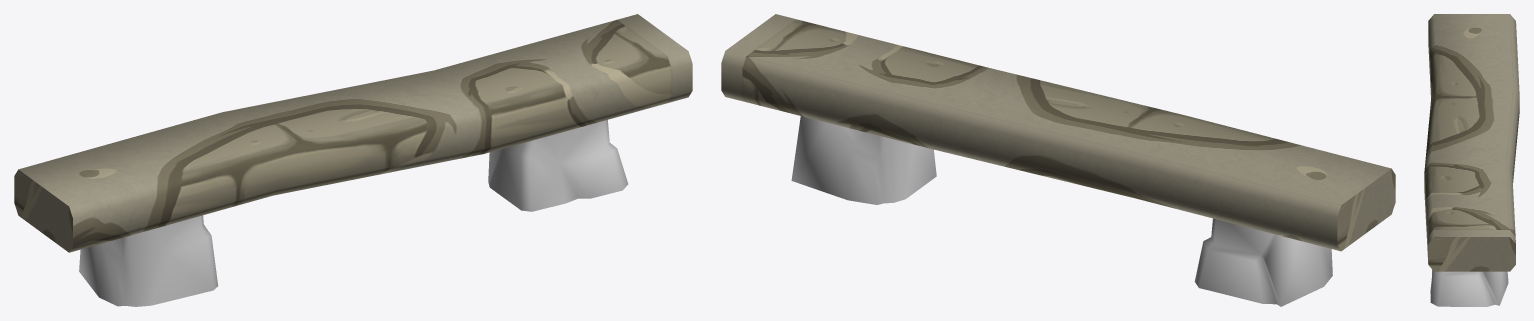
Rendered from Country_bench.FBX.
3 views of the same model, side by side, from view 1: azimuth 30°, elevation 25°; view 2: azimuth 150°, elevation 25°; view 3: azimuth 270°, elevation 25° (orthographic). The views are drawn at different scales.
Parts seen in each view (by area): view 1: Bench; view 2: Bench; view 3: Bench.
Part boxes in pixels (x1,y1,x2,y2): Bench: (14,14,692,306); Bench: (721,14,1395,306); Bench: (1424,14,1519,306).
Bounding box in the file's own units: 2.44 × 0.4591 × 0.4334.
